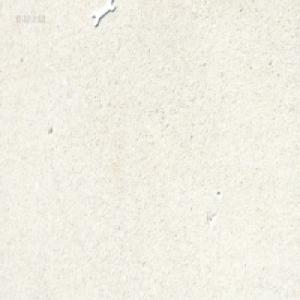Wrench: (91, 2, 114, 29)
